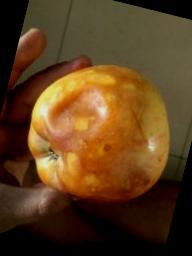Apple Rotten: (8, 45, 192, 223)
